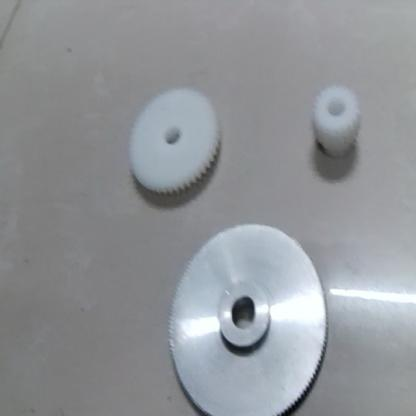FOD: (164, 224, 332, 415), (118, 90, 220, 211), (307, 74, 370, 164)
